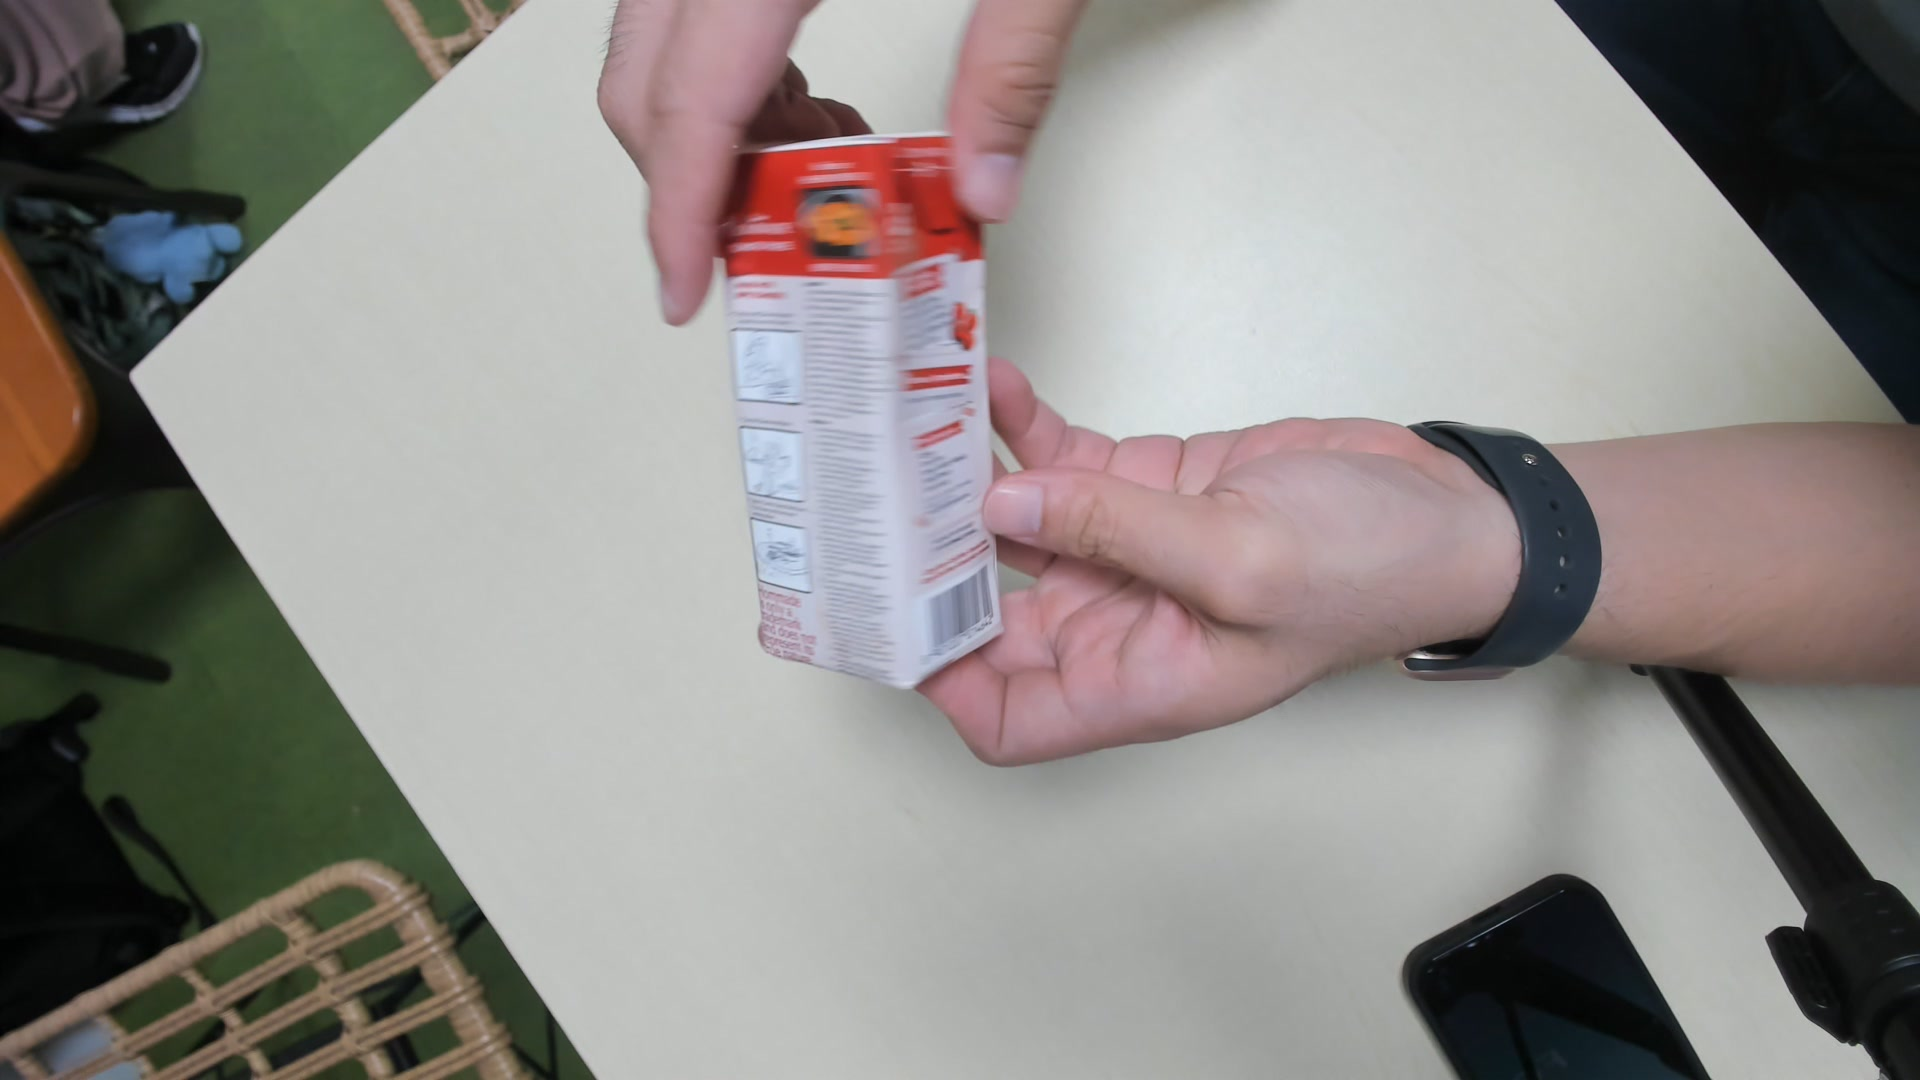OtherSauceDressing_200-299g_NonHalal_NonHealthy: (713, 125, 1004, 700)
